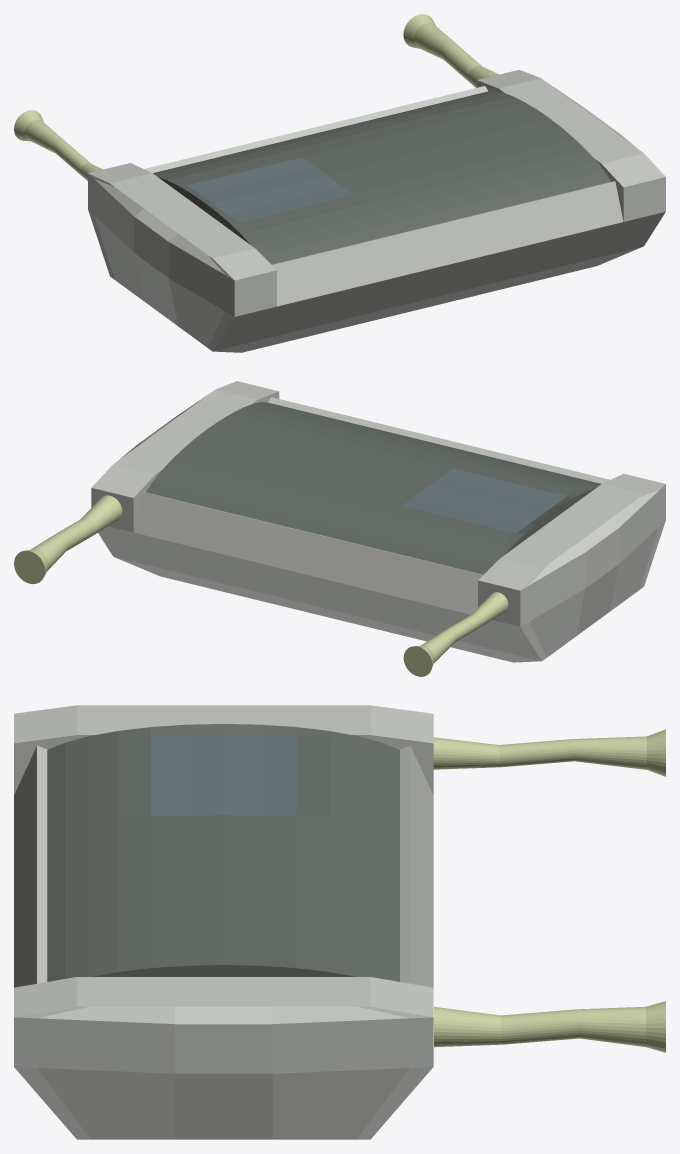
Rendered from KomoraKriogeniczna.fbx.
3 renders of one model, top to bottom at view 1: azimuth 30°, elevation 25°; view 2: azimuth 150°, elevation 25°; view 3: azimuth 270°, elevation 25°, orthographic. The views are drawn at different scales.
Visible parts, largest first — view 1: Cube, Cylinder; view 2: Cube, Cylinder; view 3: Cube, Cylinder.
Part boxes in pixels (<box>): Cube: <box>14,14,665,352</box>; Cylinder: <box>153,91,610,264</box>; Cube: <box>14,381,665,676</box>; Cylinder: <box>146,402,601,574</box>; Cube: <box>14,705,665,1139</box>; Cylinder: <box>47,724,399,981</box>.
Bounding box in the file's own units: 717 × 180 × 628.
